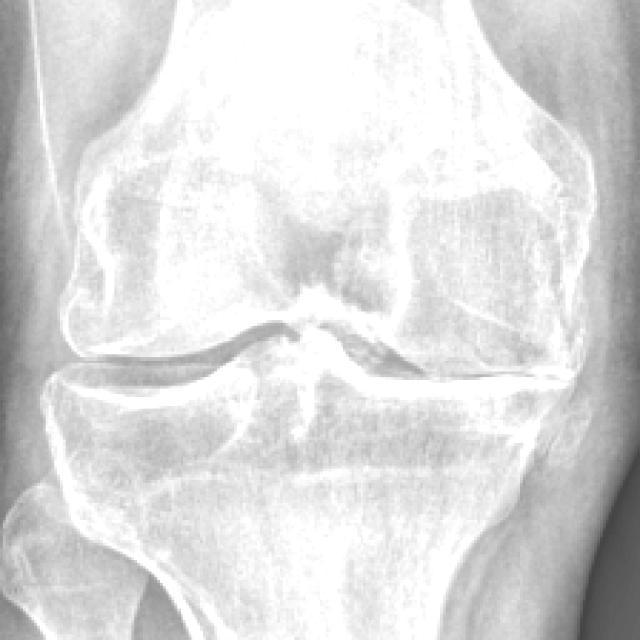femur: (58, 0, 598, 383)
tibia: (41, 331, 577, 640)
